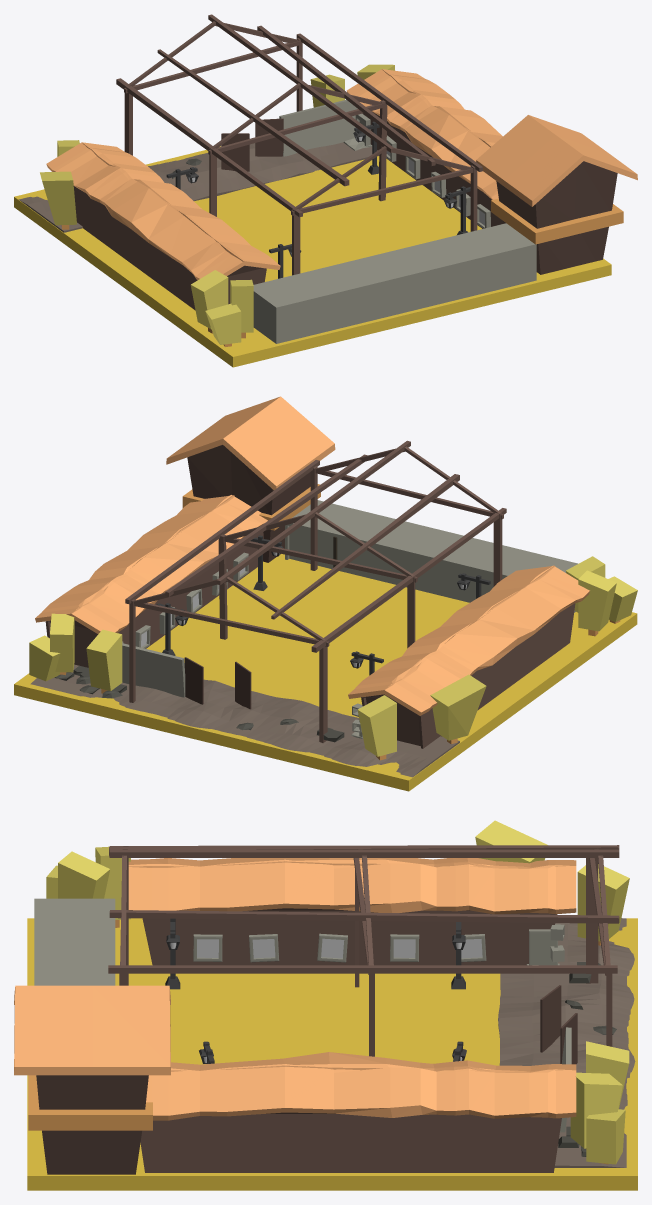
Rendered from untitl.glb.
The picture shows the model from 3 angles, top to bottom: view 1: azimuth 30°, elevation 25°; view 2: azimuth 150°, elevation 25°; view 3: azimuth 270°, elevation 25°; orthographic projection. The views are drawn at different scales.
Visible parts, largest first — view 1: Cube, Cube.002, Cube.031, Cube.041, Cube.088, Cube.027, Cube.029, Cube.032, Cube.030, Cube.050, Cube.042, Cube.001 (+20 smaller); view 2: Cube, Cube.027, Cube.002, Cube.031, Cube.041, Cube.029, Cube.032, Cube.030, Cube.088, Cube.001, Cube.025, Cube.059 (+25 smaller); view 3: Cube, Cube.025, Cube.030, Cube.001, Cube.041, Cube.032, Cube.027, Cube.088, Cube.002, Cube.005, Cube.003, Cube.004 (+19 smaller).
Part boxes in pixels (bbox=[...]): Cube: bbox=[14, 146, 611, 367]; Cube.002: bbox=[253, 223, 536, 343]; Cube.031: bbox=[46, 142, 245, 280]; Cube.041: bbox=[476, 115, 637, 206]; Cube.088: bbox=[496, 161, 617, 274]; Cube.027: bbox=[18, 142, 379, 232]; Cube.029: bbox=[346, 69, 498, 199]; Cube.032: bbox=[73, 186, 266, 310]; Cube.030: bbox=[82, 142, 280, 269]; Cube.050: bbox=[279, 99, 357, 156]; Cube.042: bbox=[491, 198, 623, 244]; Cube.001: bbox=[382, 69, 502, 147]; Cube: bbox=[14, 554, 637, 791]; Cube.027: bbox=[30, 664, 459, 777]; Cube.002: bbox=[285, 500, 577, 612]; Cube.031: bbox=[384, 565, 589, 715]; Cube.041: bbox=[166, 396, 335, 489]; Cube.029: bbox=[71, 495, 267, 634]; Cube.032: bbox=[361, 603, 575, 748]; Cube.030: bbox=[348, 565, 554, 698]; Cube.088: bbox=[187, 445, 310, 562]; Cube.001: bbox=[35, 495, 234, 622]; Cube.025: bbox=[45, 532, 263, 667]; Cube.059: bbox=[430, 674, 486, 740]; Cube: bbox=[27, 918, 637, 1190]; Cube.025: bbox=[140, 1112, 561, 1172]; Cube.030: bbox=[128, 859, 576, 914]; Cube.001: bbox=[146, 1064, 576, 1120]; Cube.041: bbox=[14, 985, 170, 1075]; Cube.032: bbox=[142, 908, 557, 965]; Cube.027: bbox=[498, 918, 635, 1167]; Cube.088: bbox=[36, 1075, 148, 1174]; Cube.002: bbox=[34, 898, 115, 985]; Cube.005: bbox=[108, 965, 617, 973]; Cube.003: bbox=[109, 849, 619, 857]; Cube.004: bbox=[109, 910, 619, 923].
Size of the model in its own units: 66.97 by 22.84 by 61.3.
